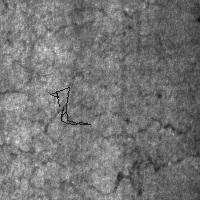crazing: (3, 21, 69, 149), (90, 115, 198, 193), (50, 87, 90, 124)
